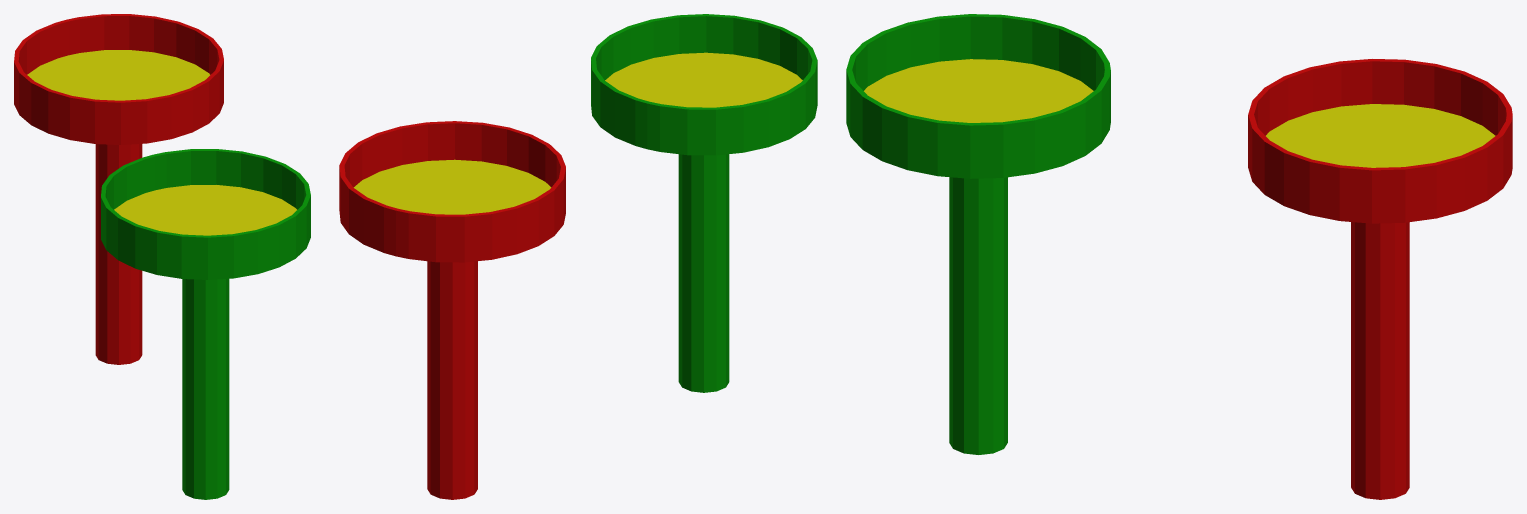
Rendered from Bins.obj.
The picture shows the model from 3 angles, left to right: view 1: azimuth 30°, elevation 25°; view 2: azimuth 150°, elevation 25°; view 3: azimuth 270°, elevation 25°; orthographic projection. The views are drawn at different scales.
Visible parts, largest first — view 1: Shape_IndexedFaceSet.003, Shape_IndexedFaceSet.001, Shape_IndexedFaceSet, Shape_IndexedFaceSet.002; view 2: Shape_IndexedFaceSet.003, Shape_IndexedFaceSet.001, Shape_IndexedFaceSet, Shape_IndexedFaceSet.002; view 3: Shape_IndexedFaceSet.003, Shape_IndexedFaceSet.001, Shape_IndexedFaceSet.002, Shape_IndexedFaceSet.
Part boxes in pixels (box(x1,y1,x2,y2)): Shape_IndexedFaceSet.003: box(101, 149, 310, 499); Shape_IndexedFaceSet.001: box(14, 14, 223, 364); Shape_IndexedFaceSet: box(27, 50, 209, 100); Shape_IndexedFaceSet.002: box(114, 185, 296, 235); Shape_IndexedFaceSet.003: box(591, 14, 817, 392); Shape_IndexedFaceSet.001: box(339, 121, 565, 499); Shape_IndexedFaceSet: box(353, 159, 551, 214); Shape_IndexedFaceSet.002: box(605, 52, 802, 107); Shape_IndexedFaceSet.003: box(846, 14, 1110, 454); Shape_IndexedFaceSet.001: box(1248, 59, 1512, 499); Shape_IndexedFaceSet.002: box(864, 59, 1093, 122); Shape_IndexedFaceSet: box(1266, 104, 1495, 167).
Size of the model in its own units: 0.3198 by 0.3556 by 0.5758.
